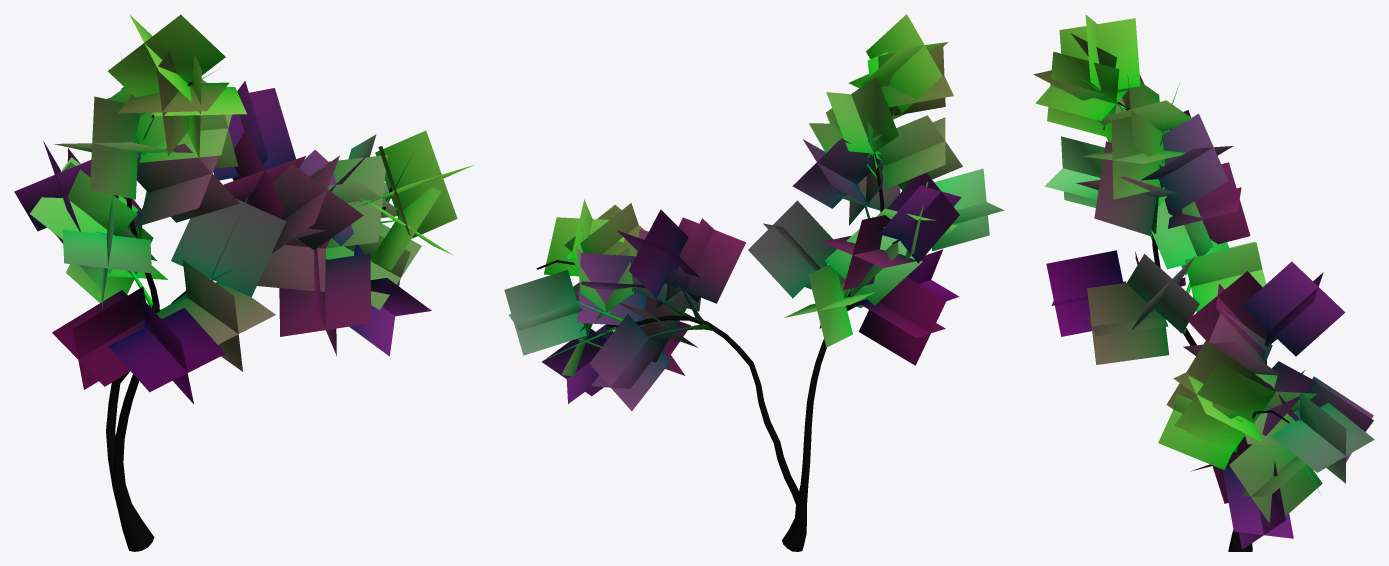
Rendered from M_P5_Tree_8.fbx.
3 views of the same model, side by side, from view 1: azimuth 30°, elevation 25°; view 2: azimuth 150°, elevation 25°; view 3: azimuth 270°, elevation 25° (orthographic). The views are drawn at different scales.
Parts seen in each view (by area): view 1: Tree_8; view 2: Tree_8; view 3: Tree_8.
Boxes of the visible parts, x1,y1,x2,y2 form: Tree_8: (14,14,473,551); Tree_8: (504,14,1004,551); Tree_8: (1033,14,1374,551).
Bounding box in the file's own units: 521 × 629 × 373.
